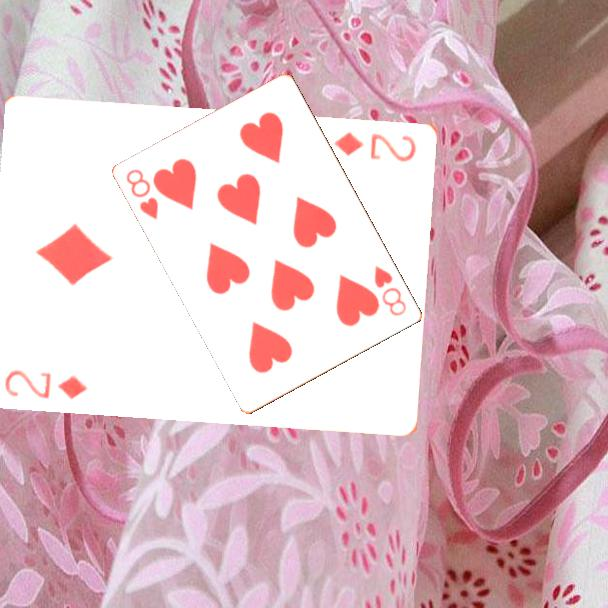d02: (330, 128, 420, 164), (2, 366, 91, 402)
h08: (123, 165, 162, 223), (371, 262, 410, 319)
